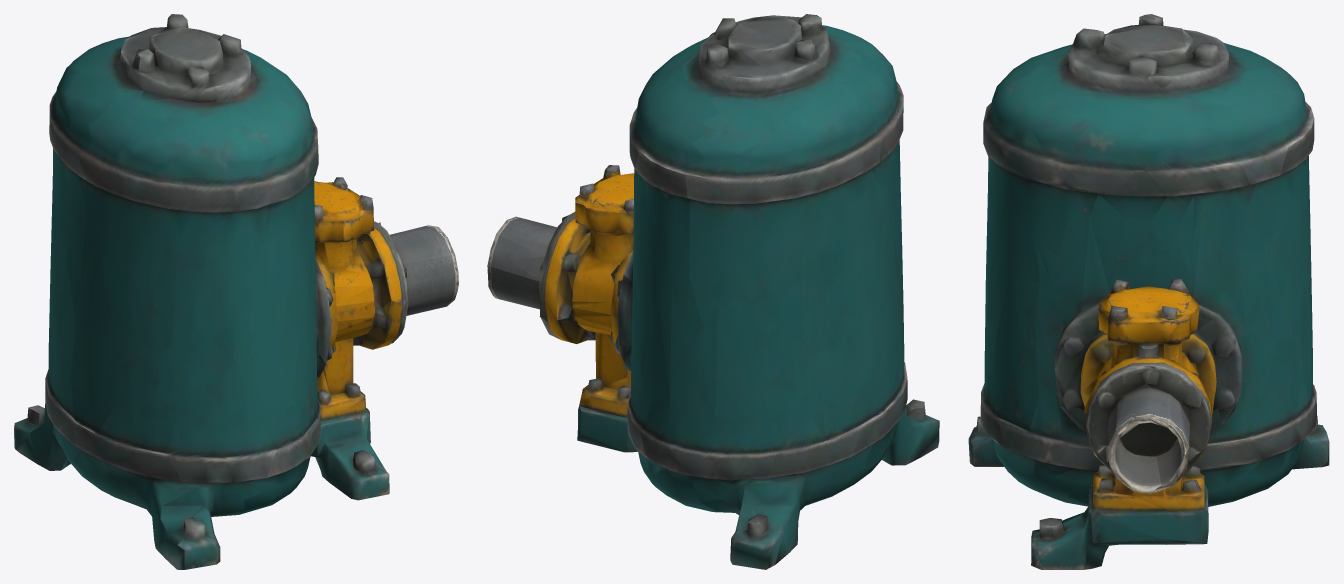
The model's file is paint-tank.glb.
3 renders of one model, left to right at view 1: azimuth 30°, elevation 25°; view 2: azimuth 150°, elevation 25°; view 3: azimuth 270°, elevation 25°, orthographic. The views are drawn at different scales.
Visible parts, largest first — view 1: paint-tank-body; view 2: paint-tank-body; view 3: paint-tank-body.
Part boxes in pixels (<box>): paint-tank-body: <box>14,14,458,569</box>; paint-tank-body: <box>487,14,939,569</box>; paint-tank-body: <box>968,14,1329,569</box>.
Bounding box in the file's own units: 1.2 × 1.4 × 1.
1 material, 1 textured.
